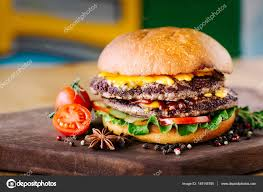hamburger: (92, 25, 239, 148)
